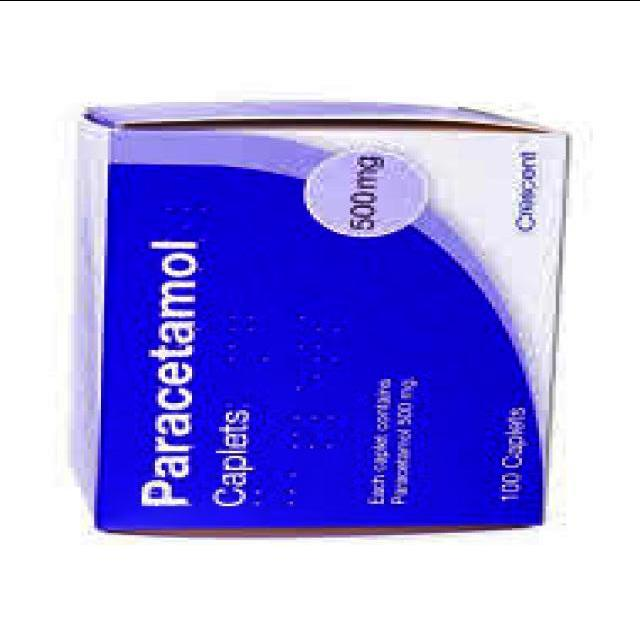authentic: (56, 90, 596, 552)
